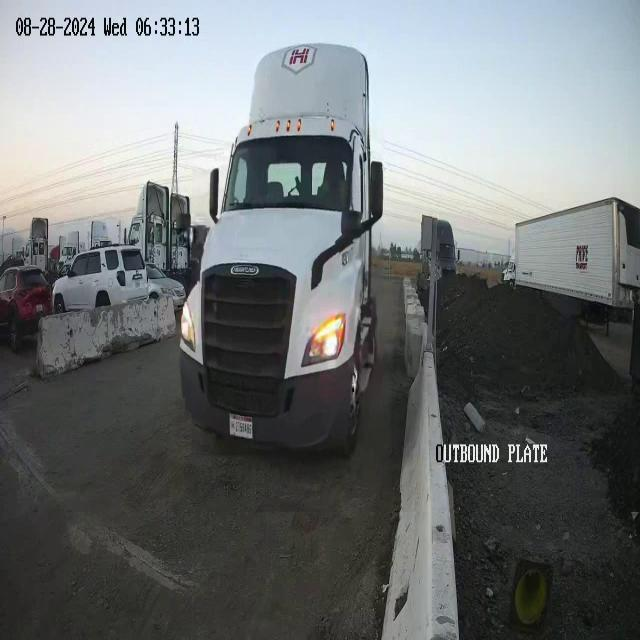TRUCK_OUT: (178, 41, 384, 456)
